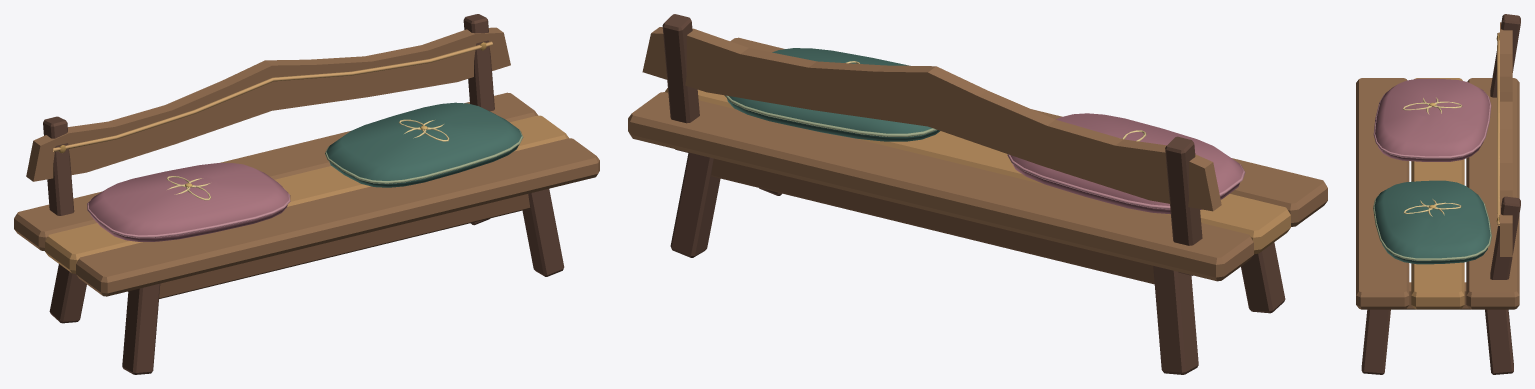
Rendered from waiting_bench.glb.
The picture shows the model from 3 angles, left to right: view 1: azimuth 30°, elevation 25°; view 2: azimuth 150°, elevation 25°; view 3: azimuth 270°, elevation 25°; orthographic projection. The views are drawn at different scales.
Visible parts, largest first — view 1: waiting_bench; view 2: waiting_bench; view 3: waiting_bench.
Boxes of the visible parts, left/top/right/bottom form: waiting_bench: left=14, top=14, right=599, bottom=374; waiting_bench: left=628, top=14, right=1327, bottom=374; waiting_bench: left=1356, top=14, right=1520, bottom=374.
Size of the model in its own units: 1.4 by 0.55 by 0.45.
